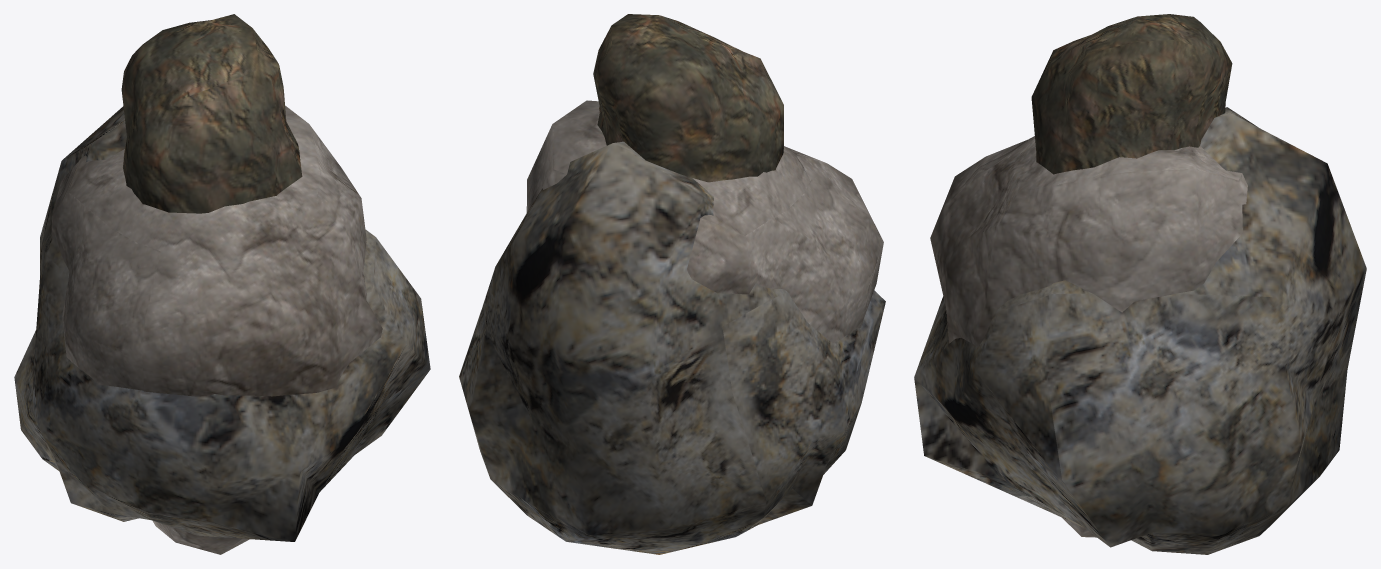
The model's file is comets.fbx.
3 renders of one model, left to right at view 1: azimuth 30°, elevation 25°; view 2: azimuth 150°, elevation 25°; view 3: azimuth 270°, elevation 25°, orthographic. The views are drawn at different scales.
Parts seen in each view (by area): view 1: asteroid.001, asteroid.000, asteroid.002; view 2: asteroid.000, asteroid.001, asteroid.002; view 3: asteroid.000, asteroid.001, asteroid.002.
Part boxes in pixels (x1,y1,x2,y2): asteroid.001: [51, 105, 382, 554]; asteroid.000: [14, 106, 430, 541]; asteroid.002: [121, 14, 302, 213]; asteroid.000: [459, 141, 885, 554]; asteroid.001: [526, 100, 883, 343]; asteroid.002: [593, 14, 783, 182]; asteroid.000: [914, 107, 1366, 554]; asteroid.001: [930, 136, 1247, 537]; asteroid.002: [1031, 14, 1232, 174].
Bounding box in the file's own units: 366 × 493 × 388.
